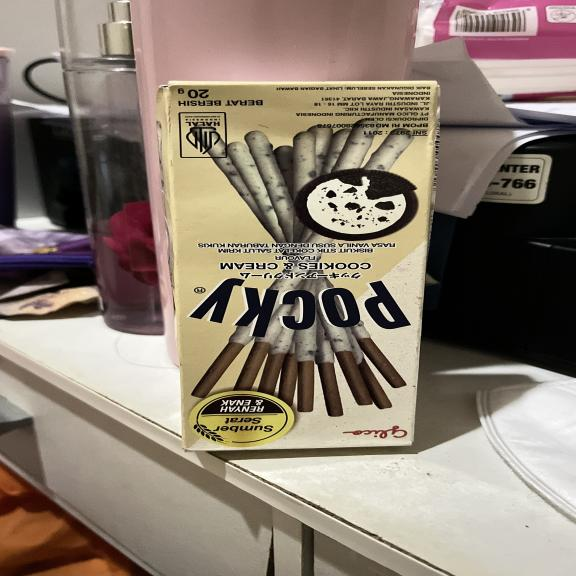Kertas: (168, 83, 439, 453)
